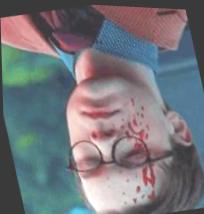Fire: (112, 91, 150, 164), (111, 159, 160, 204)
